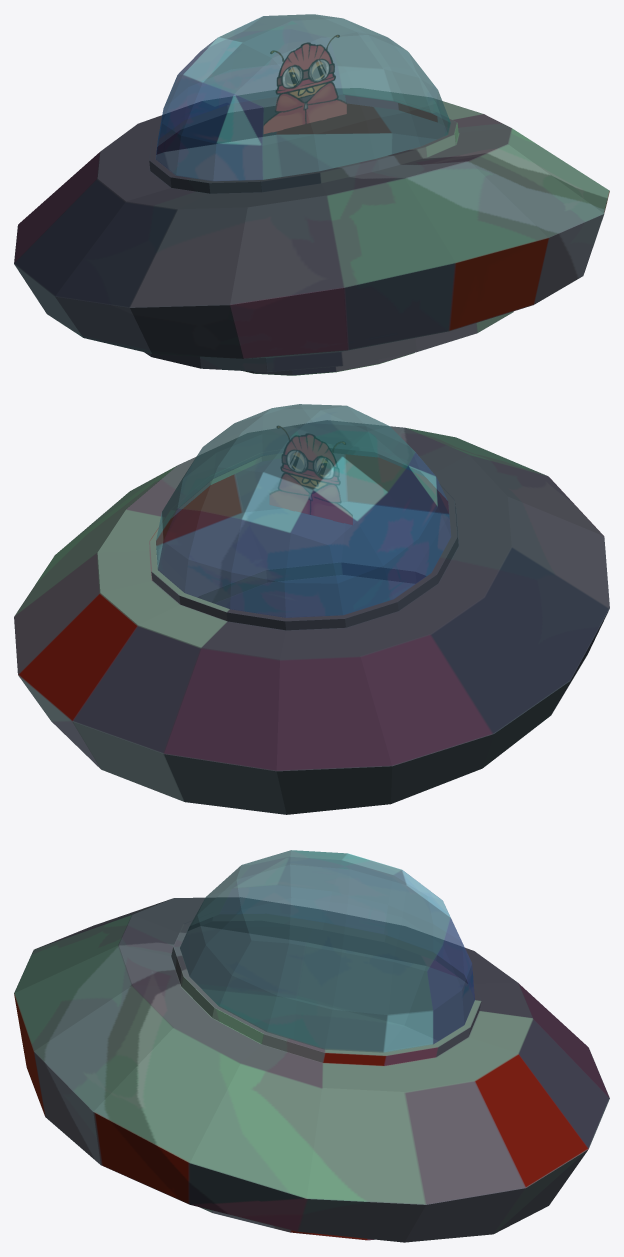
File: core_ship_final.glb
3 renders of one model, top to bottom at view 1: azimuth 30°, elevation 25°; view 2: azimuth 150°, elevation 25°; view 3: azimuth 270°, elevation 25°, orthographic. The views are drawn at different scales.
Visible parts, largest first — view 1: ship_core; view 2: ship_core; view 3: ship_core.
Boxes of the visible parts, left/top/right/bottom form: ship_core: left=14, top=14, right=609, bottom=375; ship_core: left=14, top=404, right=609, bottom=814; ship_core: left=14, top=850, right=609, bottom=1242.
Bounding box in the file's own units: 3.19 × 1.91 × 3.13.
Materials: 1 (1 with a texture image).
